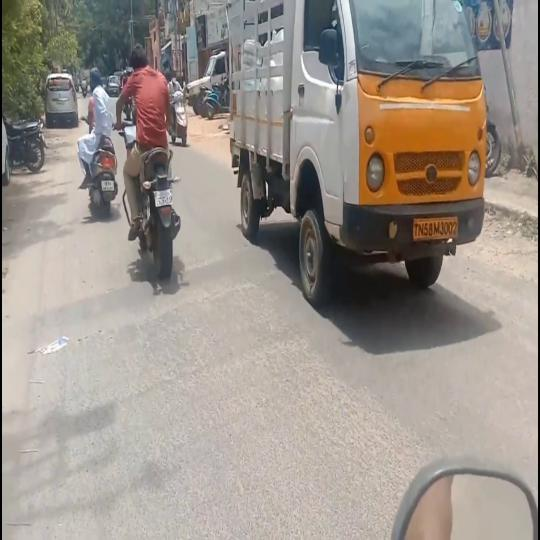Speed Bump: (12, 278, 156, 351), (174, 241, 296, 299)
